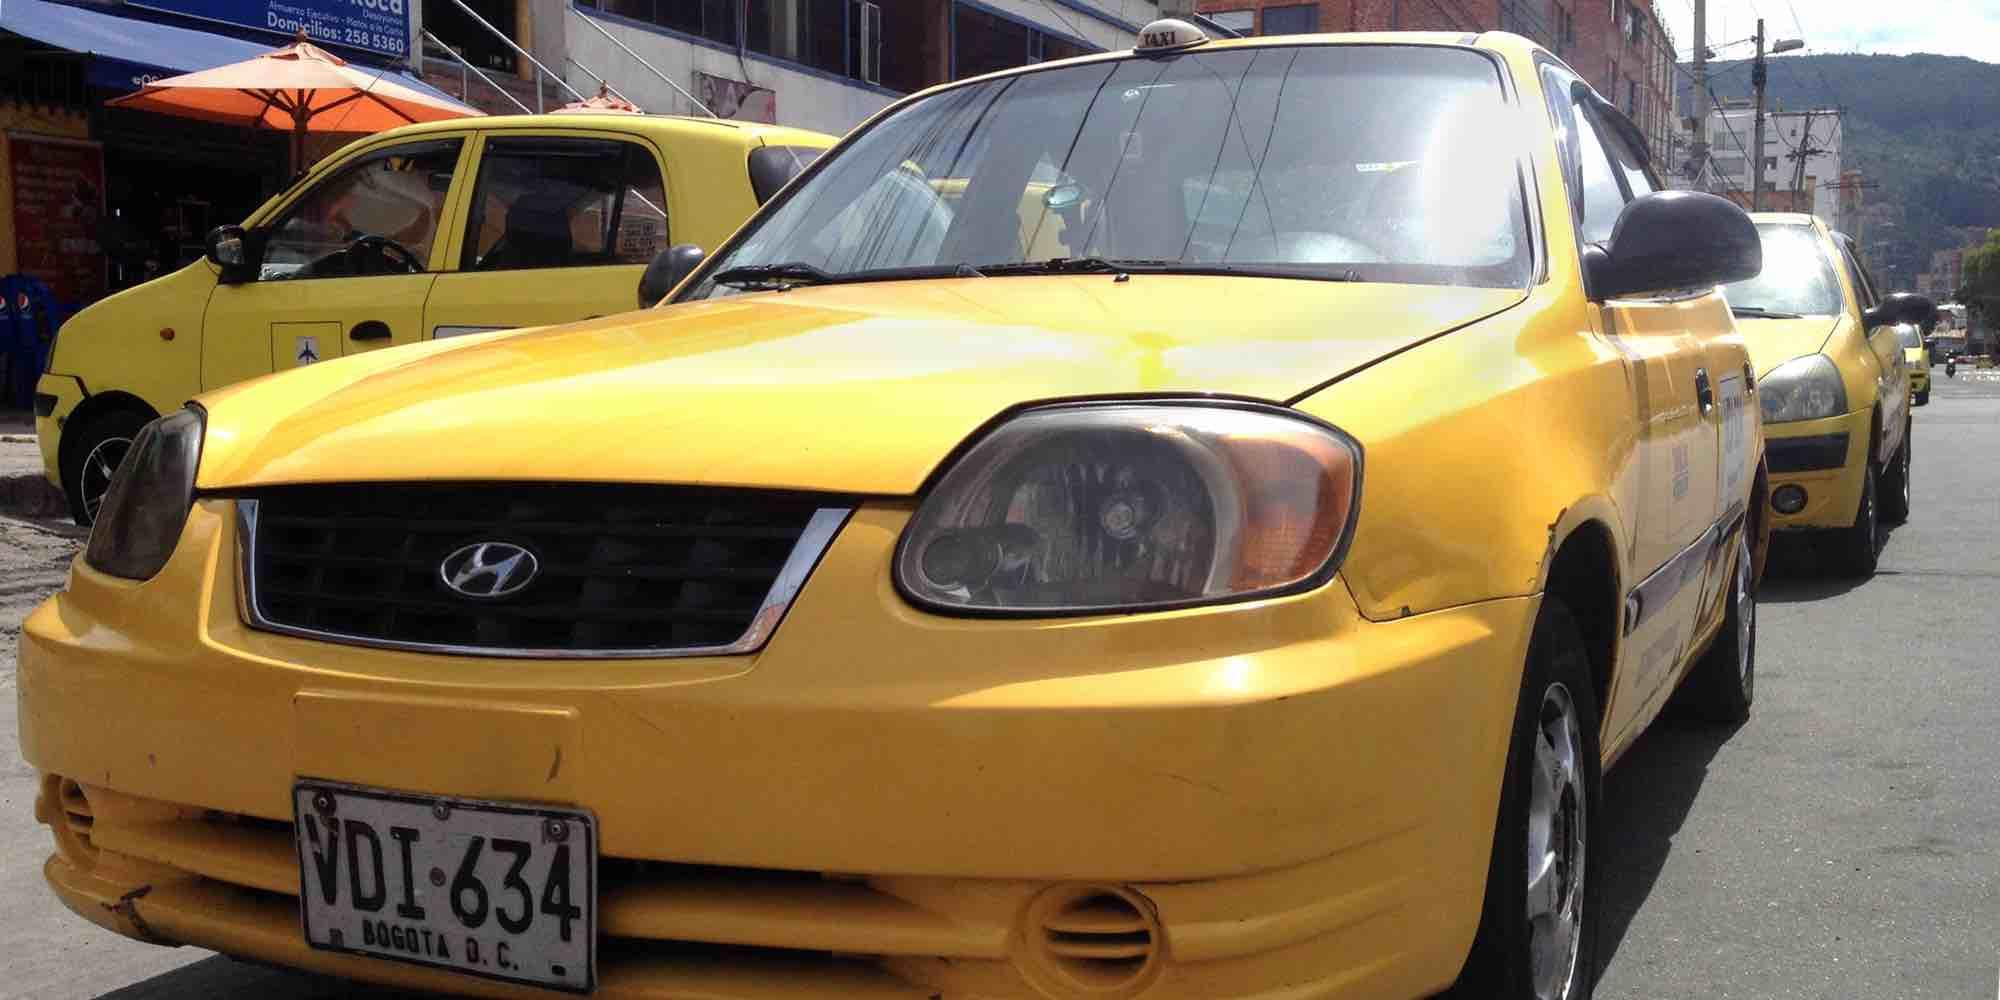taxi: (221, 27, 1770, 1000)
